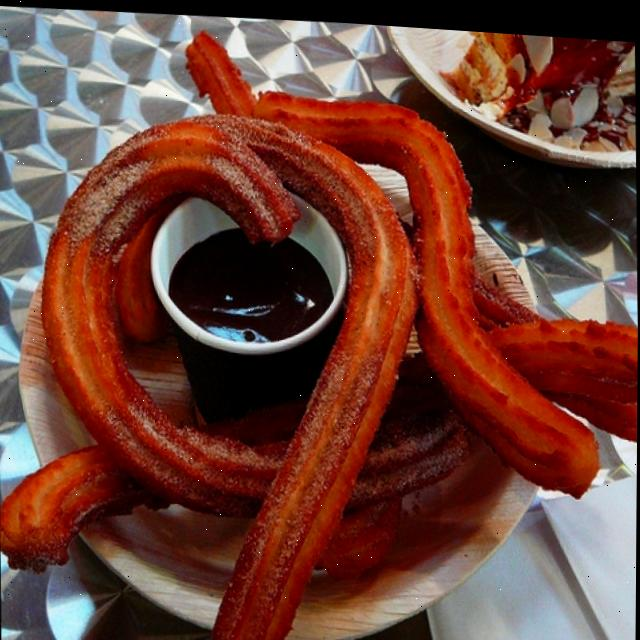炸货点心: (20, 1, 640, 640)
